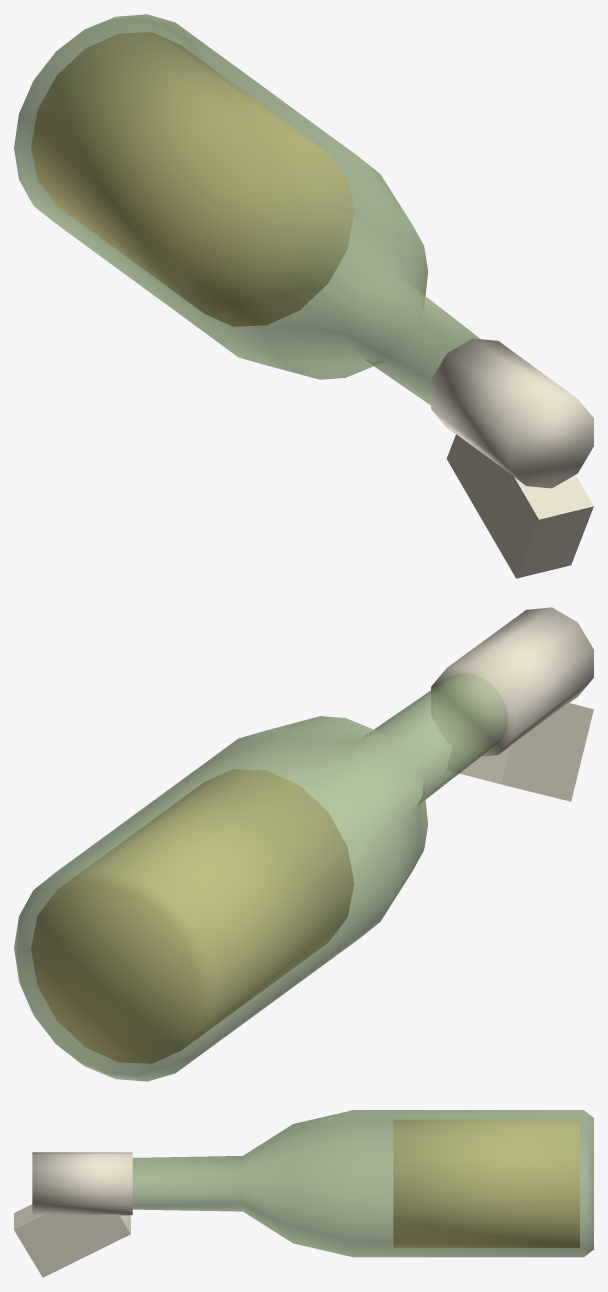
The model's file is molotov.glb.
The picture shows the model from 3 angles, top to bottom: view 1: azimuth 30°, elevation 25°; view 2: azimuth 150°, elevation 25°; view 3: azimuth 270°, elevation 25°; orthographic projection. The views are drawn at different scales.
Visible parts, largest first — view 1: molotov; view 2: molotov; view 3: molotov.
Boxes of the visible parts, <box> form: molotov: <box>14,14,593,578</box>; molotov: <box>14,607,593,1081</box>; molotov: <box>14,1110,593,1277</box>.
Bounding box in the file's own units: 0.074 × 0.0841 × 0.2891.
